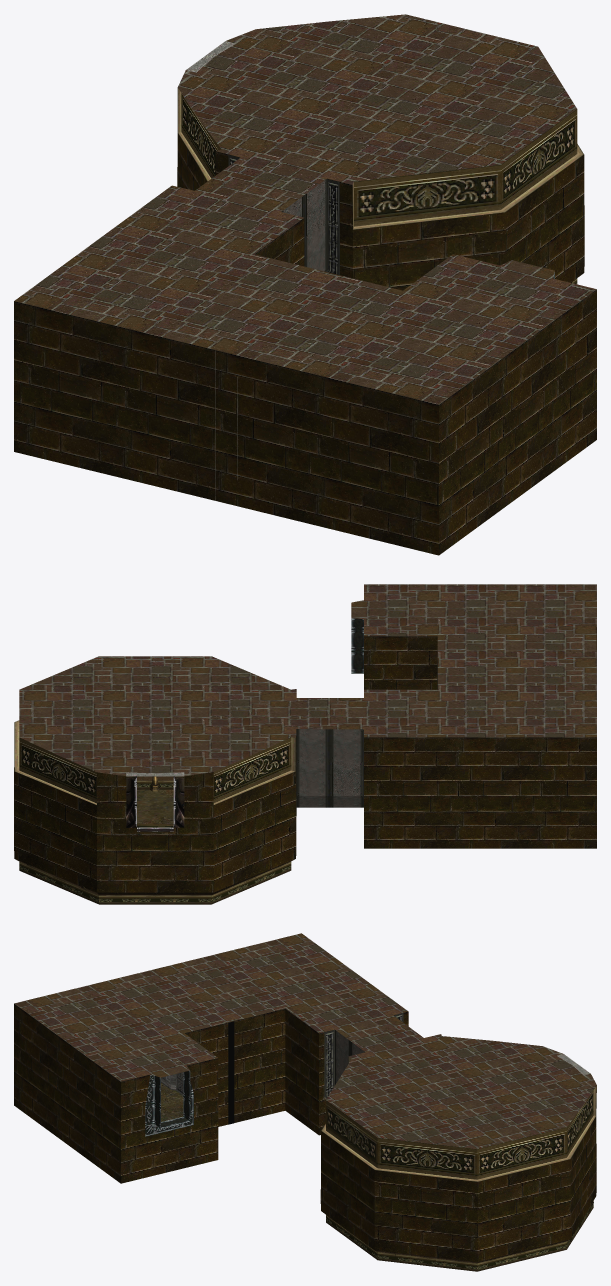
The picture shows the model from 3 angles, top to bottom: view 1: azimuth 30°, elevation 25°; view 2: azimuth 150°, elevation 25°; view 3: azimuth 270°, elevation 25°; orthographic projection. The views are drawn at different scales.
Visible parts, largest first — view 1: node-02A17344, node-0242DAB5, node-014490CA, node-03691720, node-02B1D021; view 2: node-02A17344, node-0242DAB5, node-014490CA, node-03691720, node-0060CEDA, node-0059B061, node-00405130, node-01EB2C88; view 3: node-0242DAB5, node-02A17344, node-014490CA, node-0060CEDA, node-01EB2C88, node-02B1D021, node-011578C7, node-03691720, node-00405130.
Boxes of the visible parts, x1,y1,x2,y2 form: node-02A17344: [14, 14, 596, 404]; node-0242DAB5: [14, 133, 596, 555]; node-014490CA: [177, 88, 583, 229]; node-03691720: [281, 179, 326, 271]; node-02B1D021: [228, 154, 339, 274]; node-02A17344: [19, 584, 596, 775]; node-0242DAB5: [14, 627, 596, 892]; node-014490CA: [14, 720, 295, 804]; node-03691720: [296, 729, 363, 807]; node-0060CEDA: [15, 776, 294, 904]; node-0059B061: [117, 776, 184, 831]; node-00405130: [137, 789, 173, 824]; node-01EB2C88: [351, 618, 363, 673]; node-0242DAB5: [14, 1003, 596, 1261]; node-02A17344: [14, 933, 596, 1149]; node-014490CA: [321, 1056, 596, 1181]; node-0060CEDA: [326, 1201, 593, 1271]; node-01EB2C88: [145, 1070, 193, 1136]; node-02B1D021: [324, 1013, 403, 1098]; node-011578C7: [228, 1021, 234, 1124]; node-03691720: [335, 1030, 364, 1084]; node-00405130: [161, 1083, 183, 1121].
Size of the model in its own units: 361 by 122 by 408.
16 materials, 16 textured.
